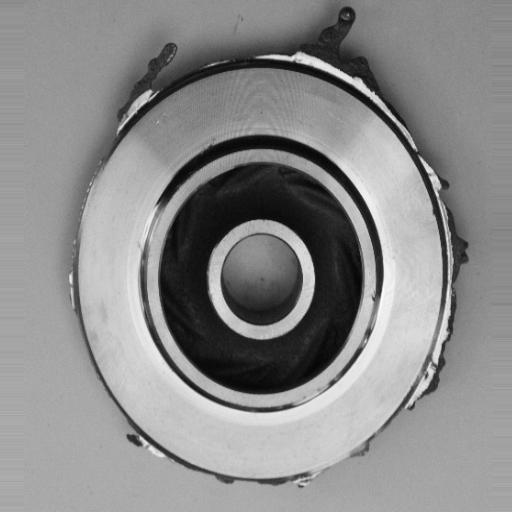casting_with_burr: (63, 3, 471, 494)
scratch: (283, 379, 344, 415), (140, 183, 161, 287), (362, 281, 391, 346)
